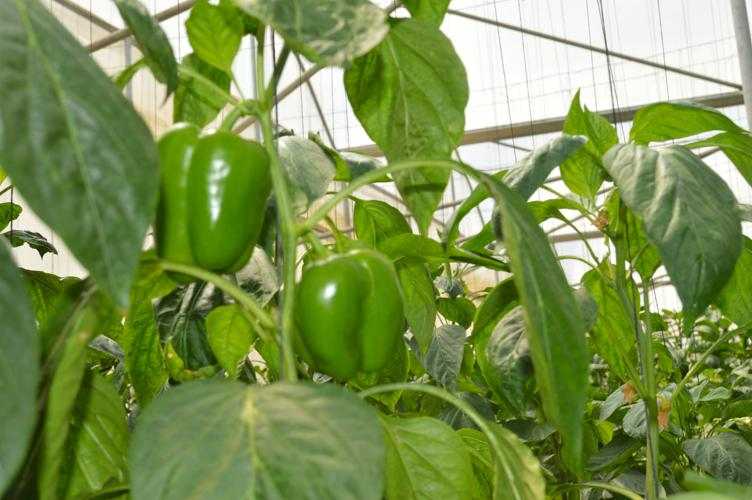BellPepper: (141, 120, 273, 279), (291, 250, 402, 374)
